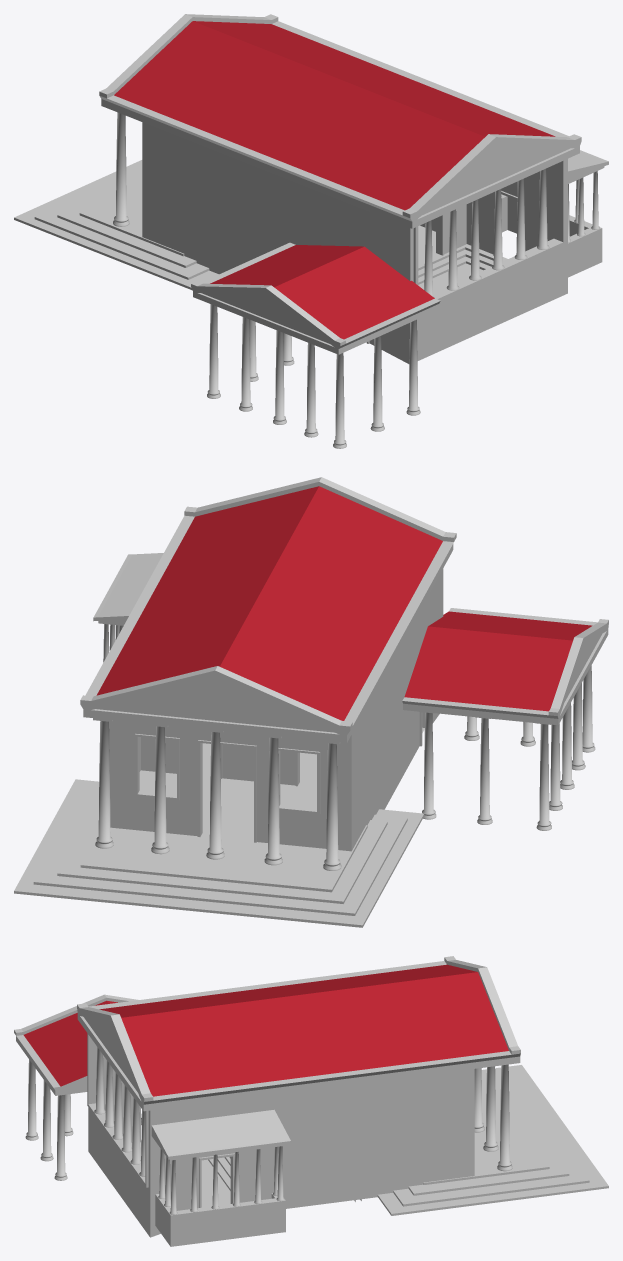
The picture shows the model from 3 angles, top to bottom: view 1: azimuth 30°, elevation 25°; view 2: azimuth 150°, elevation 25°; view 3: azimuth 270°, elevation 25°; orthographic projection. The views are drawn at different scales.
Parts seen in each view (by area): view 1: Object06, Object02, Object06_002, Box002_002, Object016_002, Object020, Circle_167, Object011, Circle_172, Circle_178, Circle_174, Circle_171 (+10 smaller); view 2: Object06, Box002_002, Object02, Object06_002, Object020, Object011, Object016, Circle_169, Circle_166, Circle_170, Circle_167, Circle_168 (+7 smaller); view 3: Object06, Object02, Box002_002, Object016, Object06_002, Object016_002, Object020, Circle_166, Circle_169, Circle_176, Circle_172, Circle_178 (+6 smaller).
Part boxes in pixels (<box>): Object06: <box>99,14,581,228</box>; Object02: <box>142,122,567,363</box>; Object06_002: <box>191,242,440,354</box>; Box002_002: <box>14,160,218,289</box>; Object016_002: <box>501,194,602,277</box>; Object020: <box>418,225,507,292</box>; Circle_167: <box>113,112,129,226</box>; Object011: <box>436,204,466,255</box>; Circle_172: <box>333,353,346,448</box>; Circle_178: <box>370,336,384,431</box>; Circle_174: <box>239,317,252,411</box>; Circle_171: <box>207,304,220,398</box>; Object06: <box>80,477,456,742</box>; Box002_002: <box>14,779,424,927</box>; Object02: <box>109,568,443,851</box>; Object06_002: <box>402,608,608,725</box>; Object020: <box>139,727,424,839</box>; Object011: <box>141,737,299,786</box>; Object016: <box>93,553,163,625</box>; Circle_169: <box>148,723,169,854</box>; Circle_166: <box>93,718,113,848</box>; Circle_170: <box>204,729,224,859</box>; Circle_167: <box>320,740,341,870</box>; Circle_168: <box>262,735,282,865</box>; Object06: <box>77,956,520,1111</box>; Object02: <box>87,1033,474,1237</box>; Box002_002: <box>377,1065,608,1215</box>; Object016: <box>151,1109,291,1160</box>; Object06_002: <box>14,994,138,1095</box>; Object016_002: <box>155,1193,285,1246</box>; Object020: <box>131,1141,230,1207</box>; Circle_166: <box>497,1064,512,1171</box>; Circle_169: <box>483,1066,498,1151</box>; Circle_176: <box>54,1095,67,1180</box>; Circle_172: <box>25,1059,38,1140</box>; Circle_178: <box>40,1080,53,1161</box>.
Size of the model in its own units: 76.04 by 41.27 by 105.
